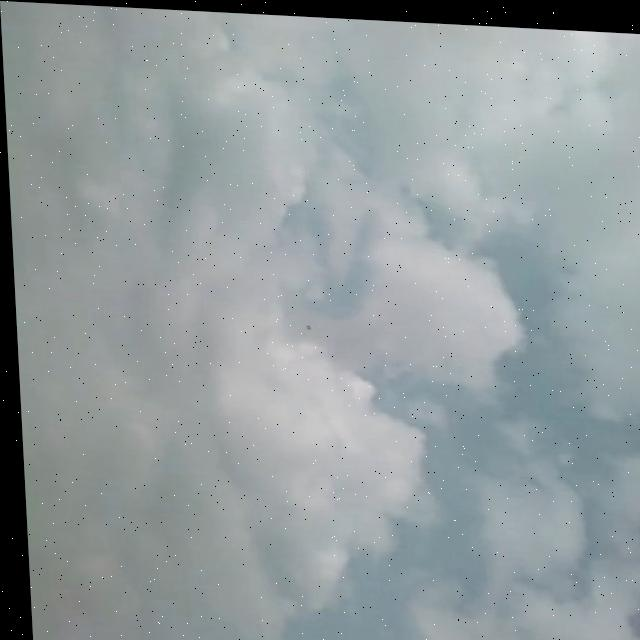drone: (298, 317, 319, 329)
